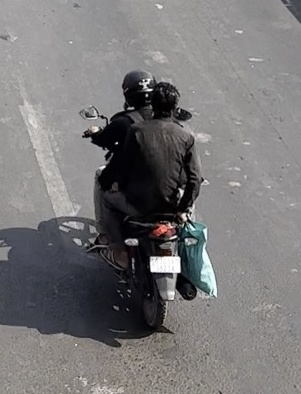BikeWithRider: (73, 64, 223, 333)
Helmet: (116, 64, 160, 113)
NoHelmet: (145, 77, 186, 126)
